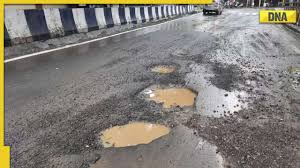potholes: (138, 66, 203, 111)
